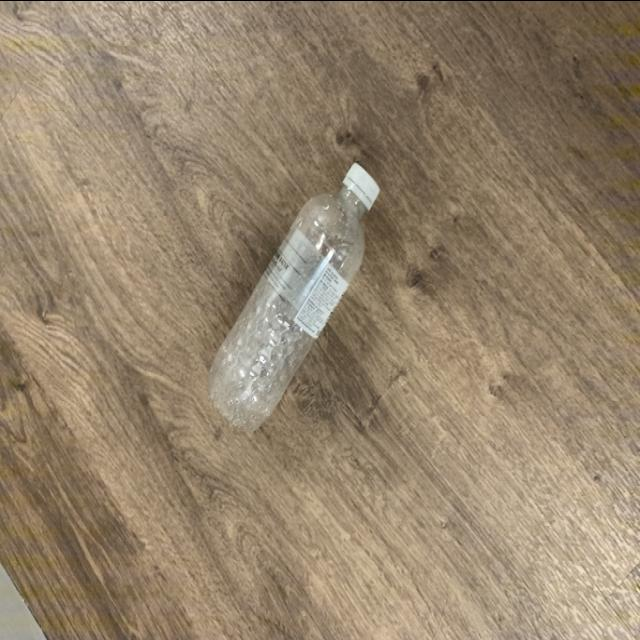litter: (211, 158, 386, 432)
